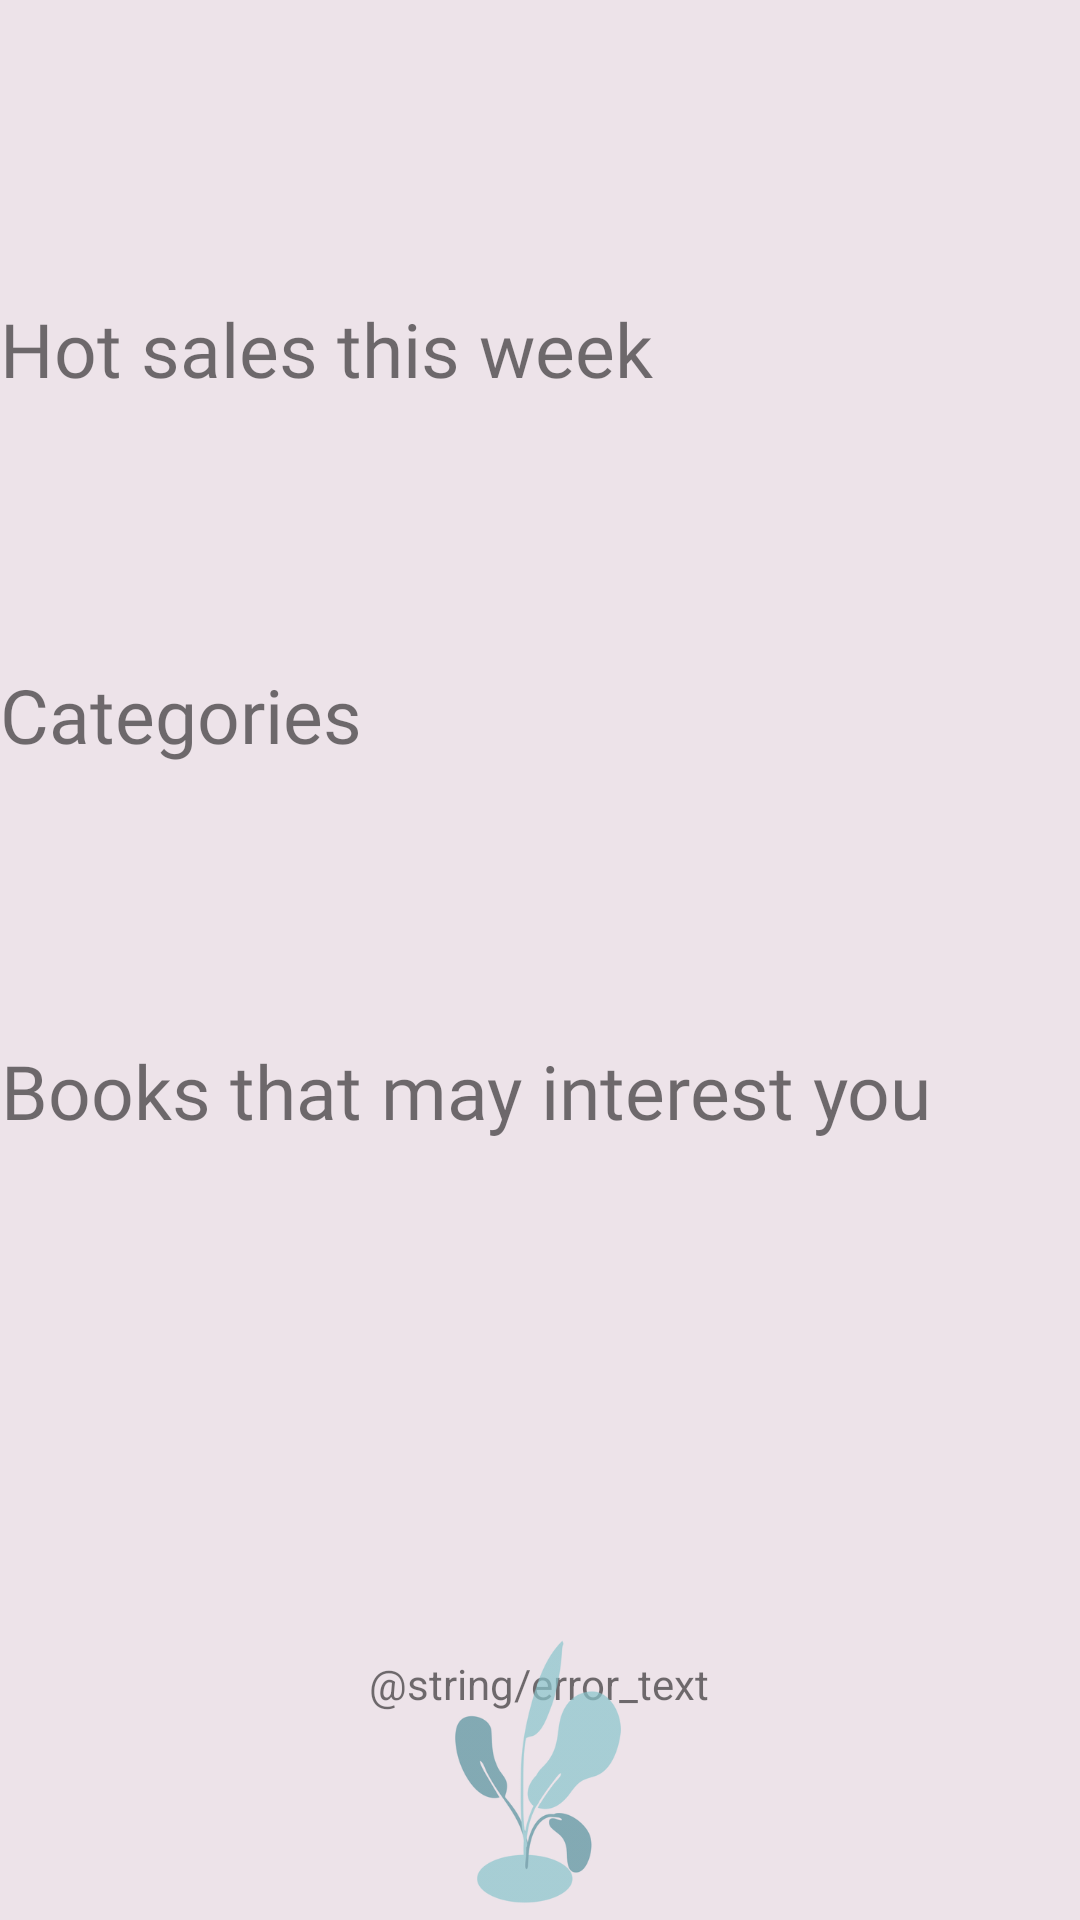

Named icons in this screenshot (1080 x 1920) and their centers, [x,y]:
plant: [540,1772]
